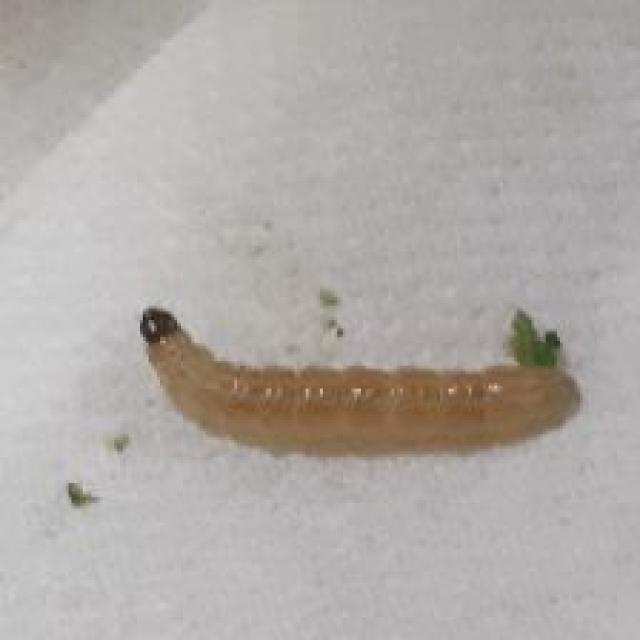white mucus: (104, 294, 594, 458)
